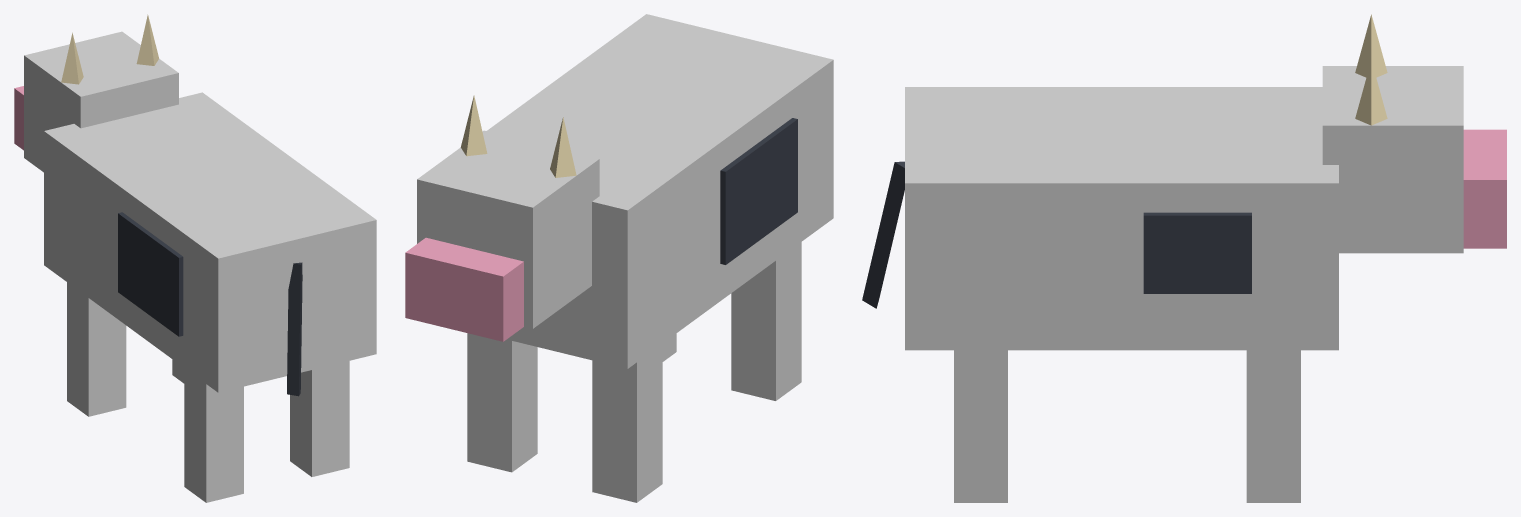
Rendered from vaca.glb.
3 renders of one model, left to right at view 1: azimuth 30°, elevation 25°; view 2: azimuth 150°, elevation 25°; view 3: azimuth 270°, elevation 25°, orthographic. The views are drawn at different scales.
Visible parts, largest first — view 1: corpo; view 2: corpo; view 3: corpo.
Part boxes in pixels (<box>): corpo: <box>14,14,376,502</box>; corpo: <box>405,14,833,502</box>; corpo: <box>862,14,1506,502</box>.
Bounding box in the file's own units: 0.222 × 0.43 × 0.5947.
